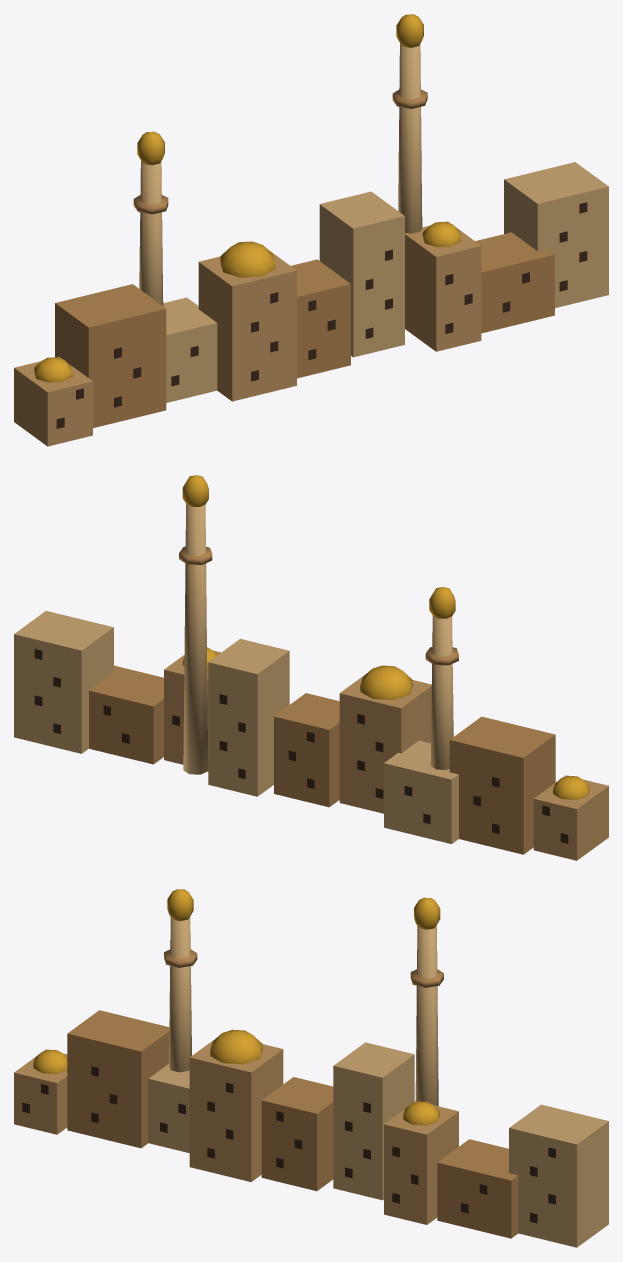
The model's file is far_bazaar.glb.
The picture shows the model from 3 angles, top to bottom: view 1: azimuth 30°, elevation 25°; view 2: azimuth 150°, elevation 25°; view 3: azimuth 330°, elevation 25°; orthographic projection. The views are drawn at different scales.
Visible parts, largest first — view 1: far_bazaar; view 2: far_bazaar; view 3: far_bazaar.
Boxes of the visible parts, x1=… form: far_bazaar: x1=14, y1=14, x2=608, y2=446; far_bazaar: x1=14, y1=475, x2=608, y2=860; far_bazaar: x1=14, y1=889, x2=608, y2=1247.
Bounding box in the file's own units: 89 × 45.6 × 13.1.
